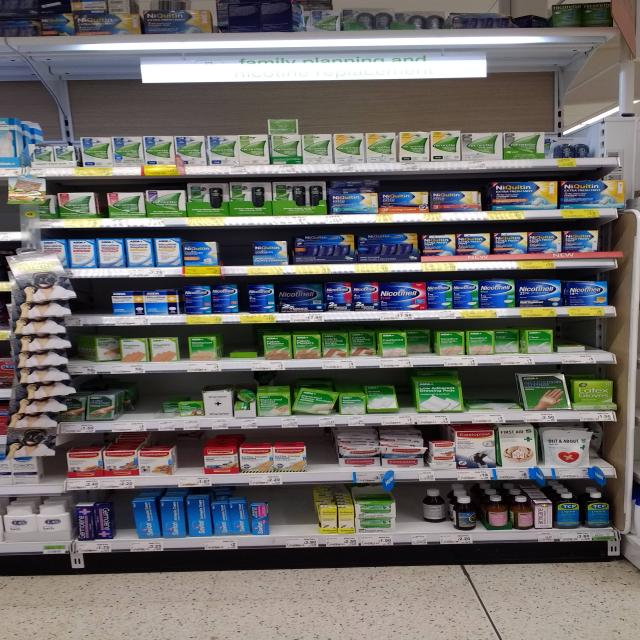empty: (457, 360, 526, 416), (271, 483, 321, 540), (547, 322, 599, 359), (66, 280, 115, 319), (392, 482, 426, 535), (126, 379, 160, 425), (170, 438, 206, 475), (310, 427, 337, 475), (218, 235, 257, 268)
